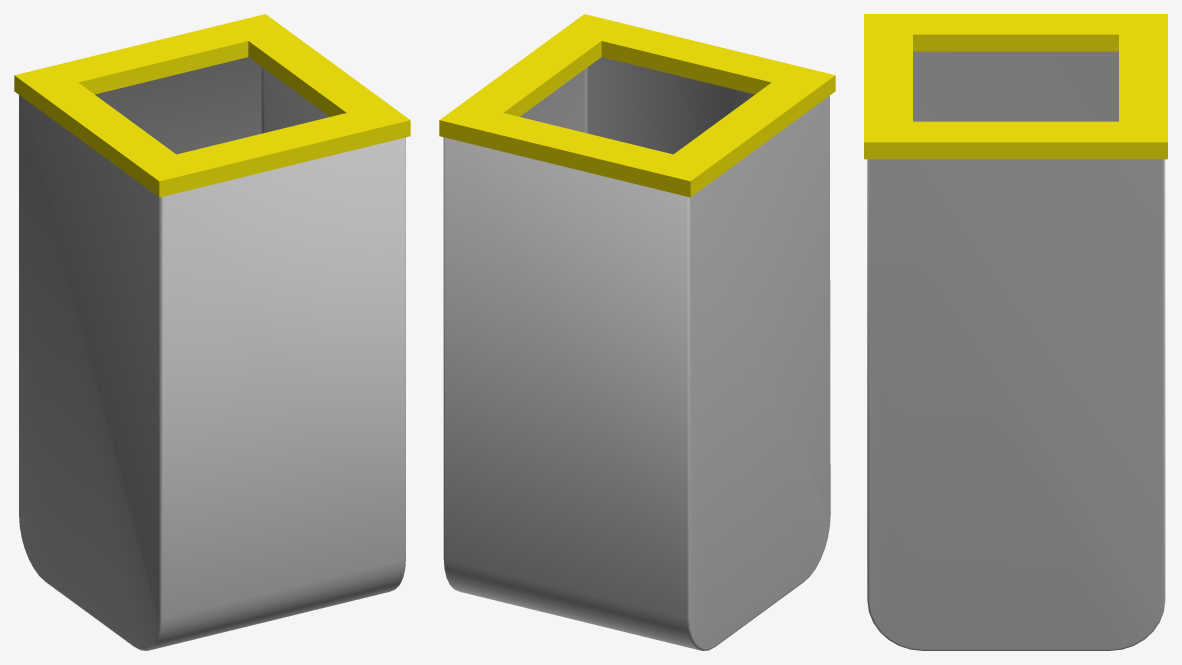
The model's file is bin.fbx.
3 views of the same model, side by side, from view 1: azimuth 30°, elevation 25°; view 2: azimuth 150°, elevation 25°; view 3: azimuth 270°, elevation 25° (orthographic). The views are drawn at different scales.
Parts seen in each view (by area): view 1: Recycle Bin- Glass002, Rectangle19854; view 2: Recycle Bin- Glass002, Rectangle19854; view 3: Recycle Bin- Glass002, Rectangle19854.
Boxes of the visible parts, left/top/right/bottom form: Recycle Bin- Glass002: left=19, top=57, right=405, bottom=650; Rectangle19854: left=14, top=14, right=410, bottom=197; Recycle Bin- Glass002: left=443, top=57, right=830, bottom=650; Rectangle19854: left=439, top=14, right=835, bottom=197; Recycle Bin- Glass002: left=867, top=51, right=1165, bottom=650; Rectangle19854: left=864, top=14, right=1167, bottom=159.
Bounding box in the file's own units: 41.42 × 76.82 × 41.42.
